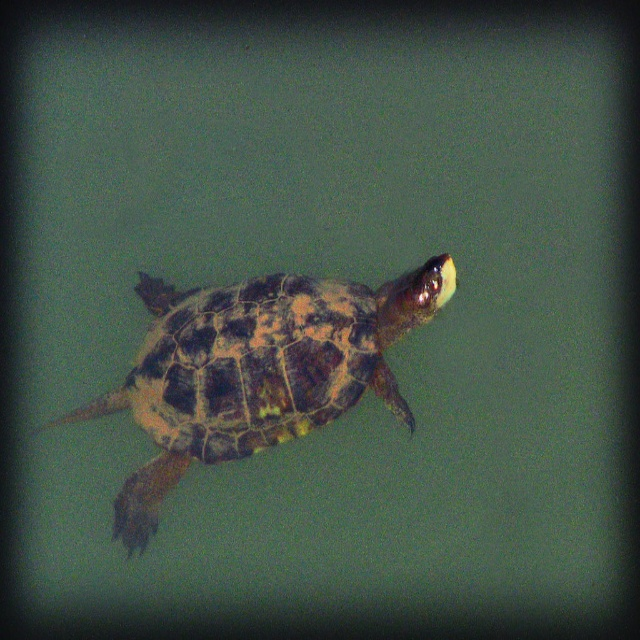Sea turtle: (34, 251, 458, 562)
